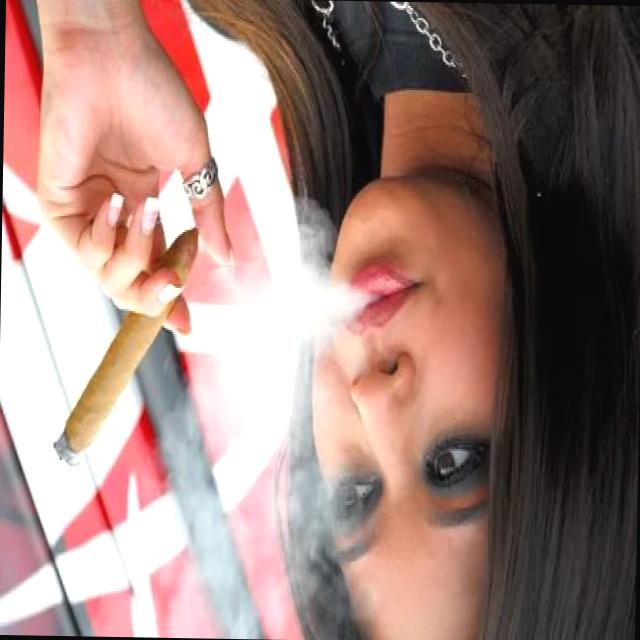smoke: (44, 215, 204, 476)
